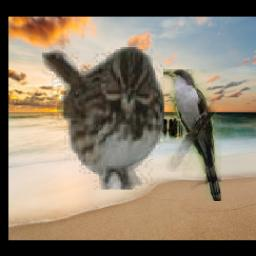Cuckoo: (164, 70, 222, 202)
Sparrow: (42, 48, 164, 190)
